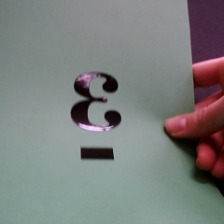green3: (67, 66, 134, 167)
